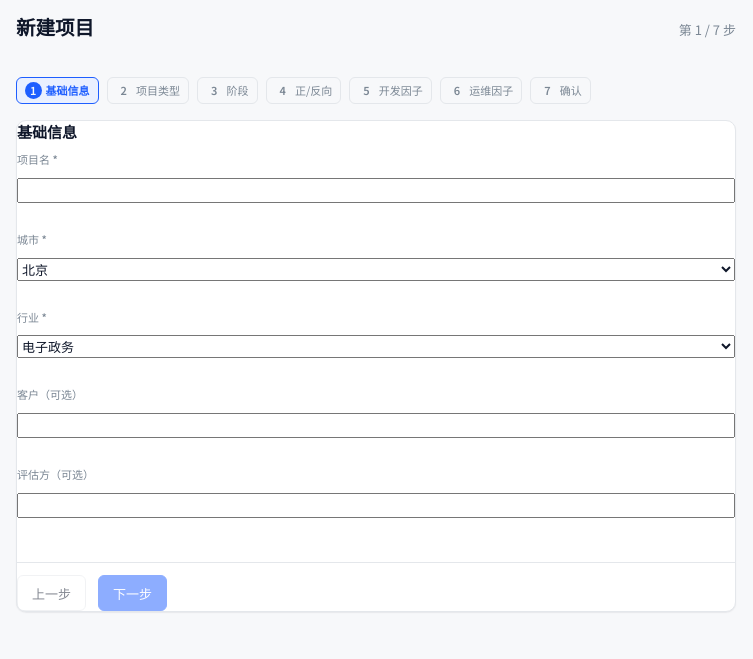
Test: Wizard step 4 — mode + target_total (T16) › 渲染 forward + reverse radio 两个选项
The width and height of the screenshot is (753, 659).
Type "项目甲" into the field named "name". click: (376, 191)
box: [17,178,735,203]
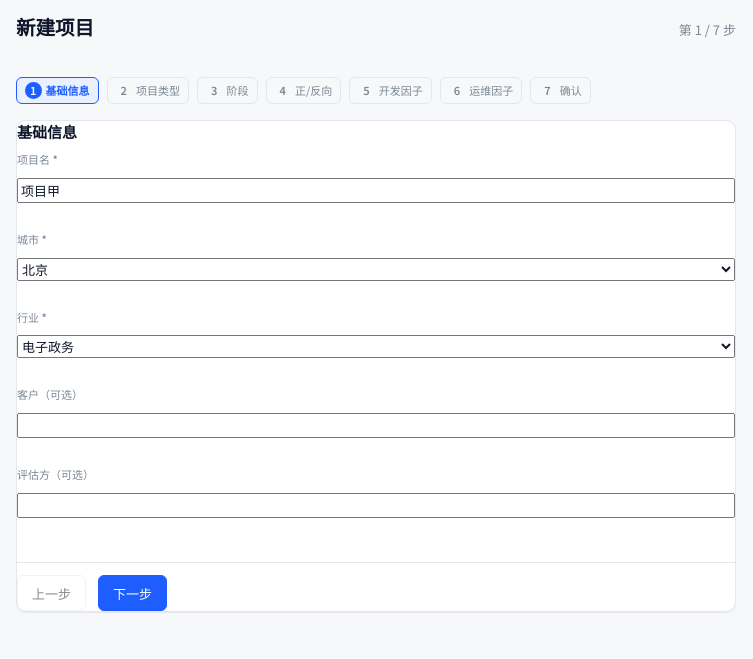
Click the button with test id "wizard-next". click: click(132, 593)
box: [98,575,167,611]
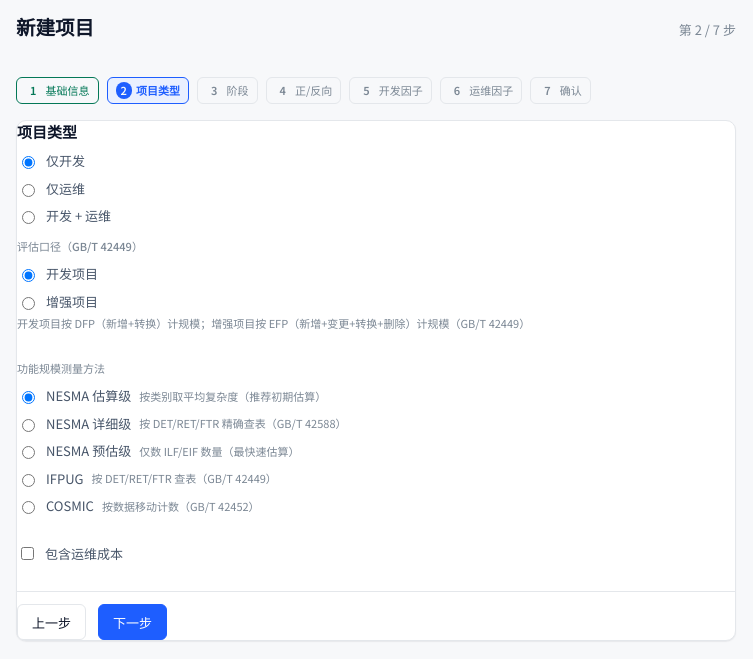
Click the button with test id "wizard-next". click: click(132, 622)
box: [98,604,167,640]
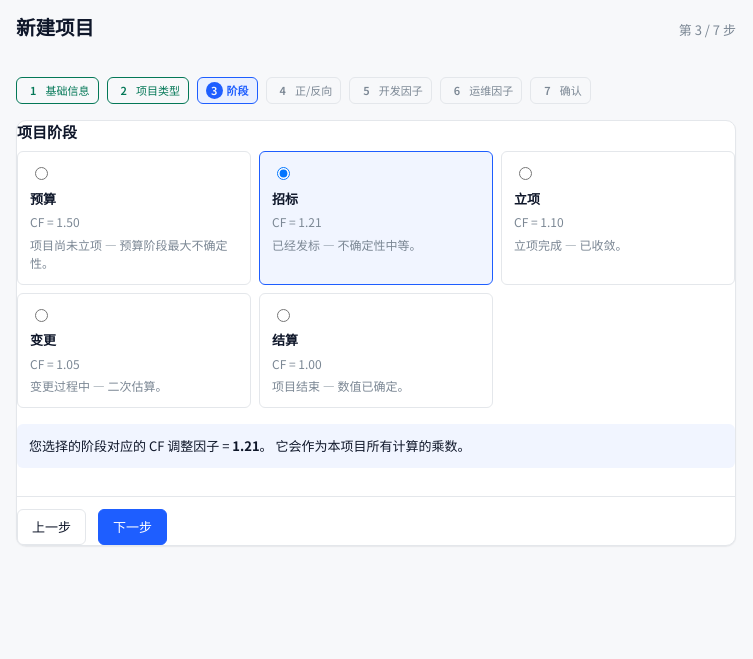
Click the button with test id "wizard-next". click: click(132, 527)
box: [98,509,167,545]
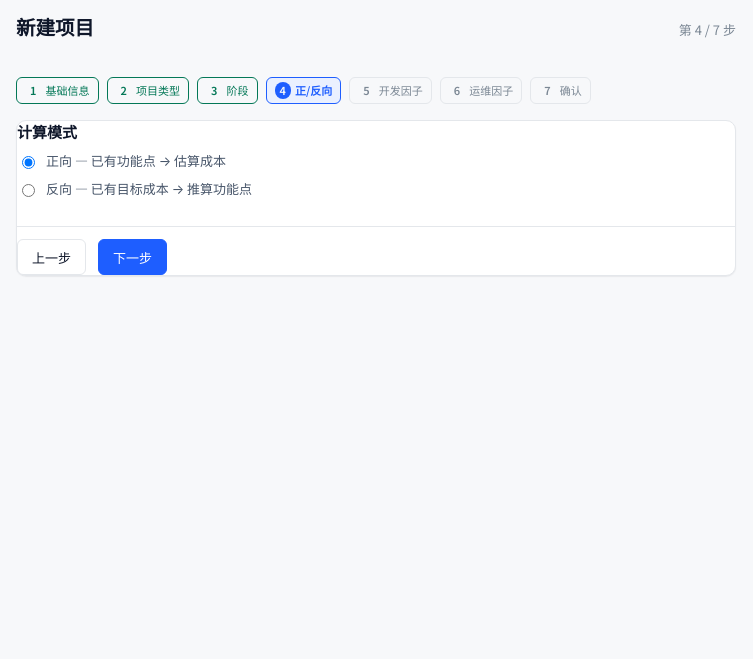
Expected: the text "反向" is shown, [295,82,332,98]
Now the number of radio buttons named "mode" is 2, box [22,156,35,169]; [22,184,35,196]
Now the text "正向" is shown, box [46,151,226,170]
